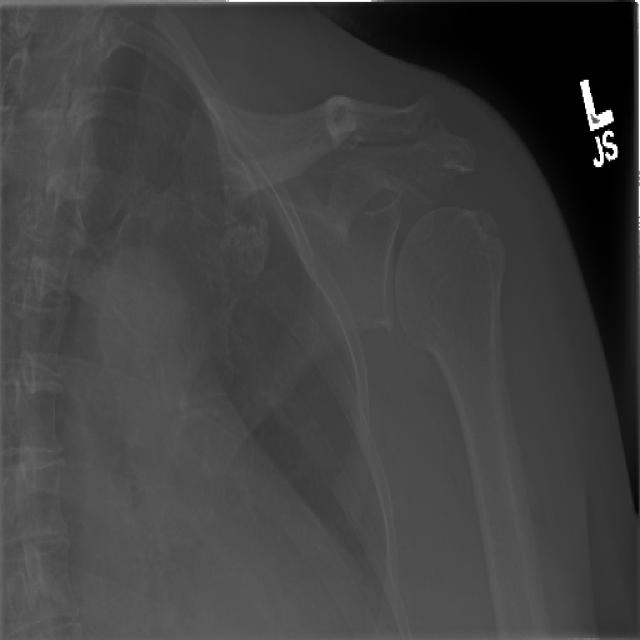shoulder fracture: (436, 196, 520, 292)
